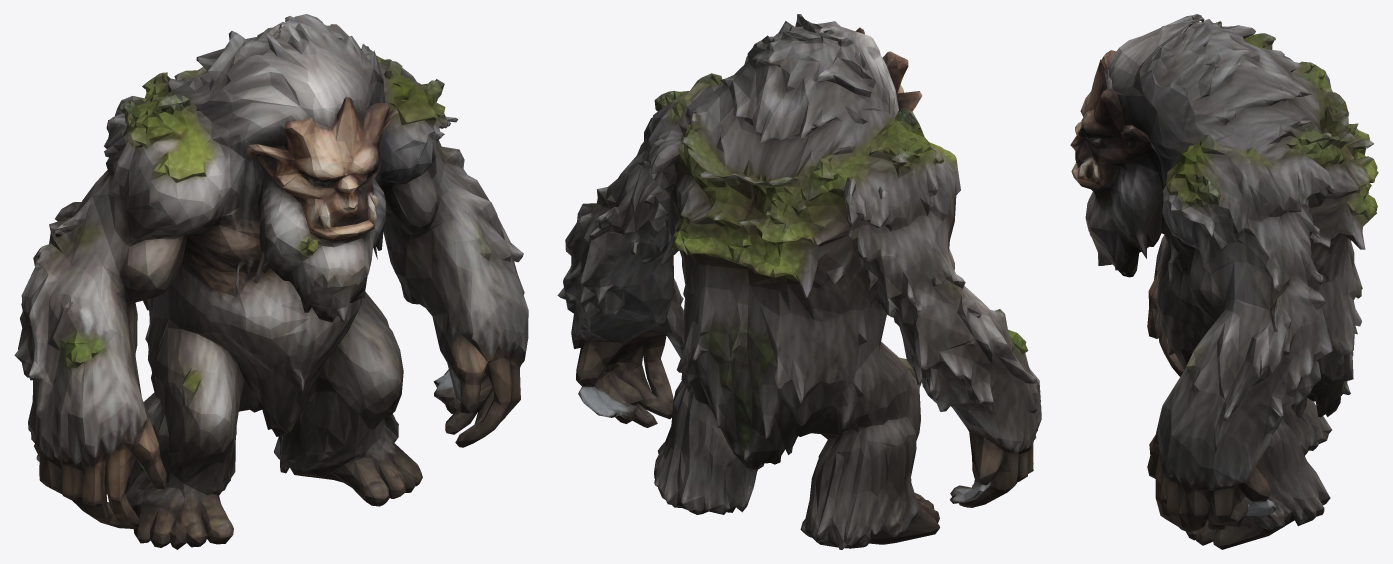
Rendered from kapokTroll.glb.
3 views of the same model, side by side, from view 1: azimuth 30°, elevation 25°; view 2: azimuth 150°, elevation 25°; view 3: azimuth 270°, elevation 25° (orthographic). The views are drawn at different scales.
Parts seen in each view (by area): view 1: world; view 2: world; view 3: world.
Part boxes in pixels (left/top/right/bottom): world: left=14, top=14, right=528, bottom=549; world: left=557, top=14, right=1041, bottom=549; world: left=1070, top=14, right=1378, bottom=549.
Bounding box in the file's own units: 0.8024 × 0.7716 × 0.461.
1 material, 1 textured.
